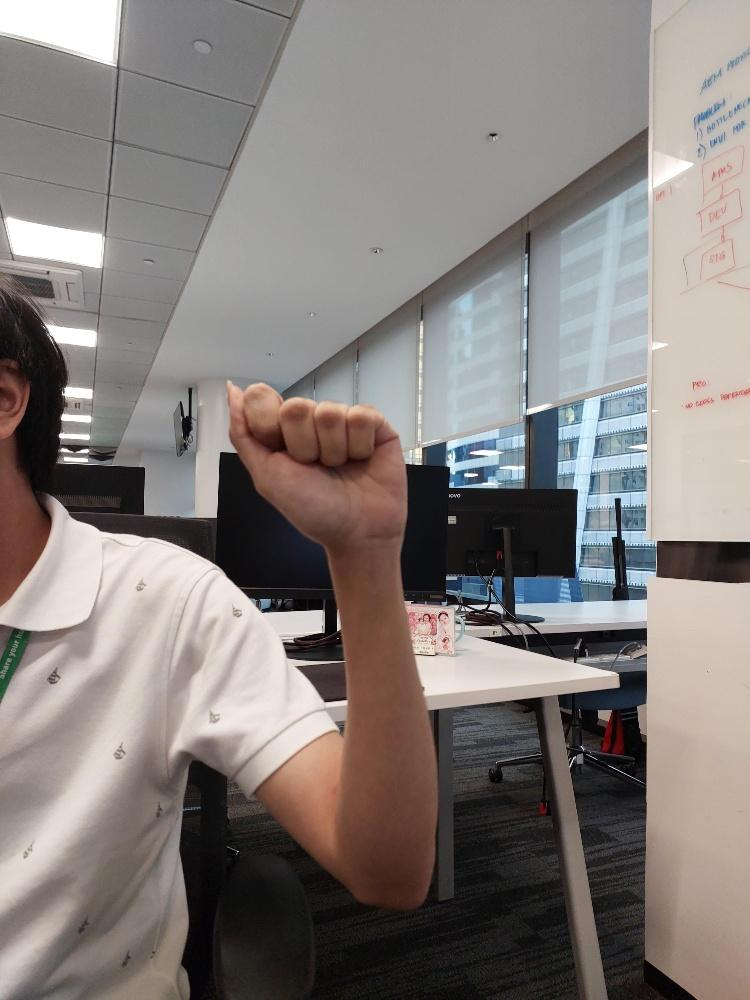a: (219, 374, 409, 544)
